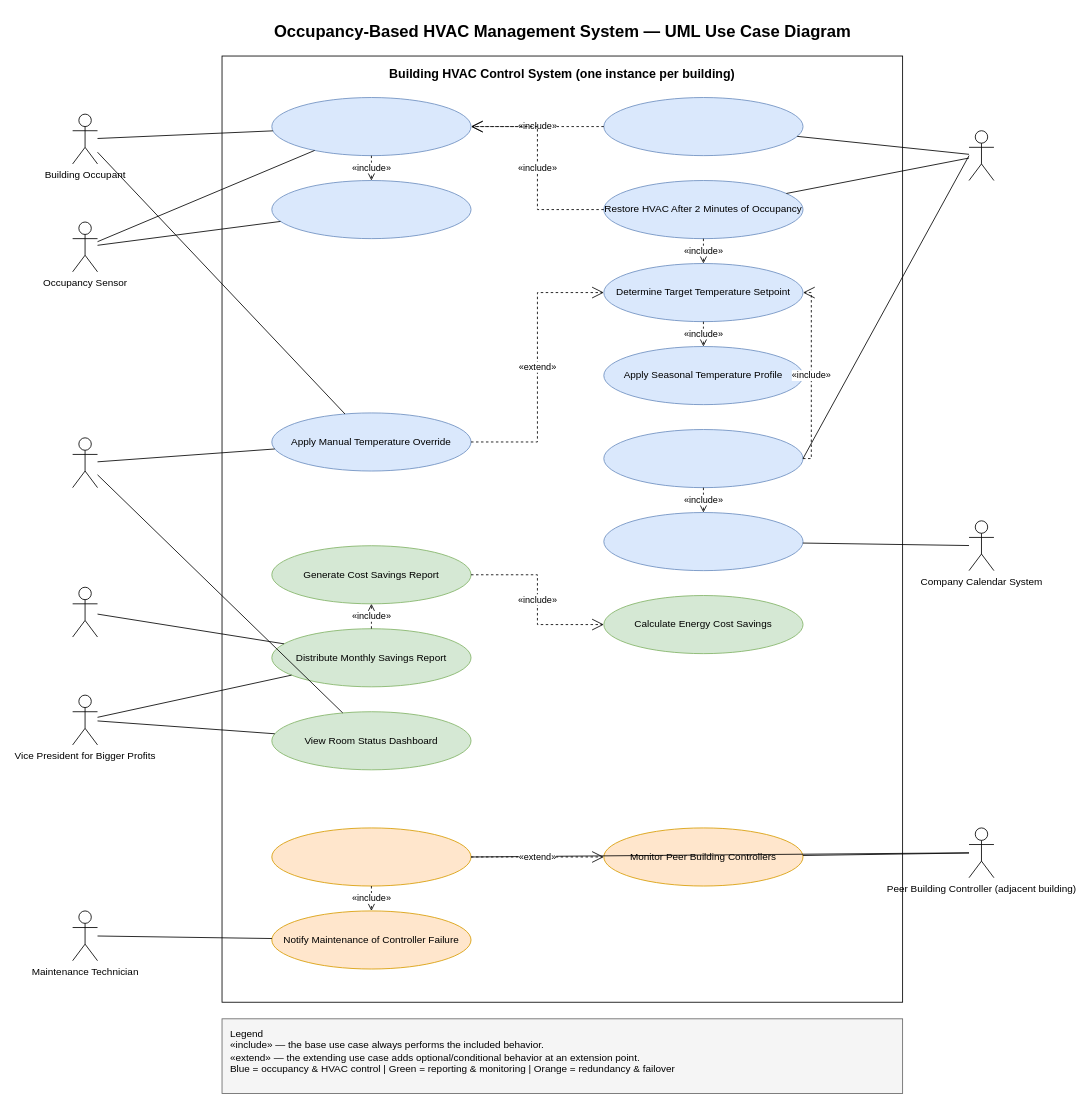
Some shapes in this 1090 by 1108 pixel diagram are drawn without their labels. The shapes that lost their labels are listed below. From the top down, each one's centre as x and y in pixels, then its label:
point (371, 126): Monitor Room Occupancy
point (703, 126): Turn Off HVAC After 10 Minutes of Vacancy
point (981, 155): HVAC Zone Controller
point (371, 209): Verify Sensor Operational Status
point (85, 462): Facilities Manager
point (703, 458): Pre-Condition Room for Scheduled Event
point (703, 541): Retrieve Room Schedule
point (85, 611): Email Service
point (371, 856): Assume Control of Failed Building
